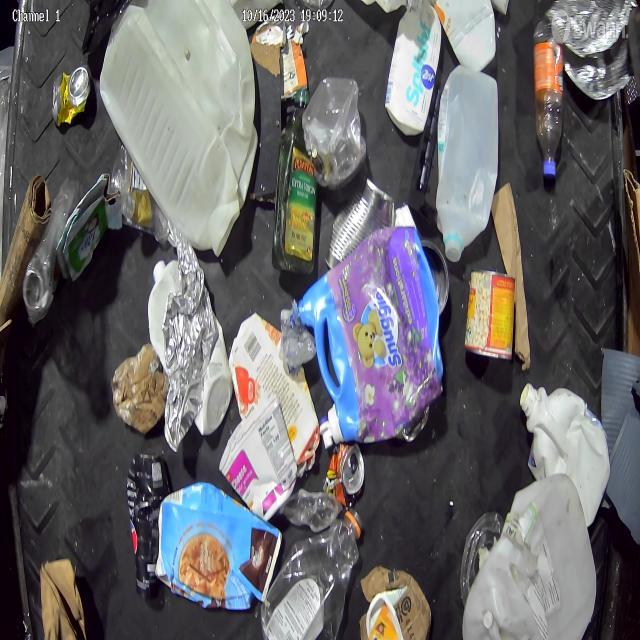can: (323, 168, 397, 270), (464, 268, 516, 360), (322, 442, 366, 510), (51, 65, 92, 130), (279, 22, 309, 104)
milk_jug: (97, 0, 261, 263), (501, 471, 597, 640), (519, 381, 612, 532), (434, 66, 500, 265), (461, 532, 549, 640), (384, 0, 441, 139), (434, 0, 498, 72)
non_white_jug: (296, 226, 446, 444), (152, 480, 285, 612)
plastic_bottle: (260, 503, 366, 640), (532, 18, 566, 180), (279, 490, 344, 532)
